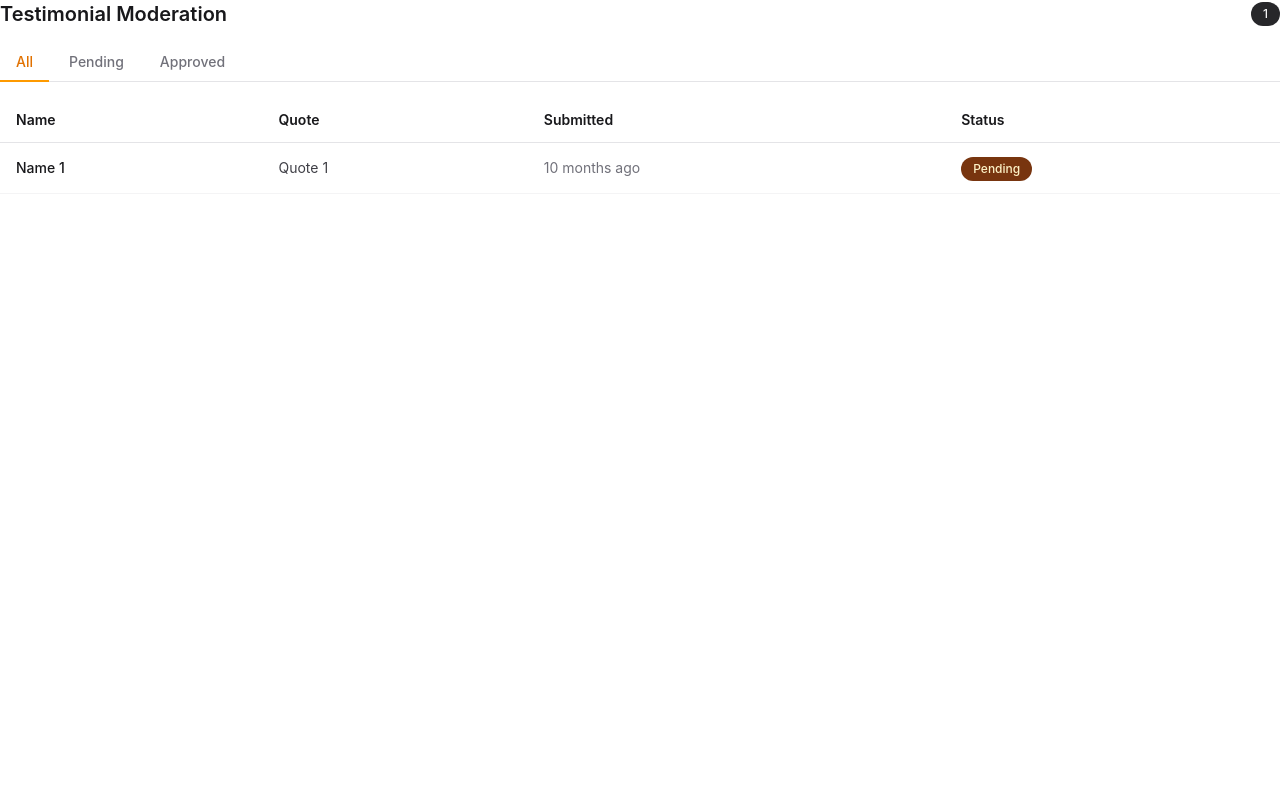
Test: surfaces an action error in the modal
Click the text "Name 1" at (40, 168), box [0,142,262,194]
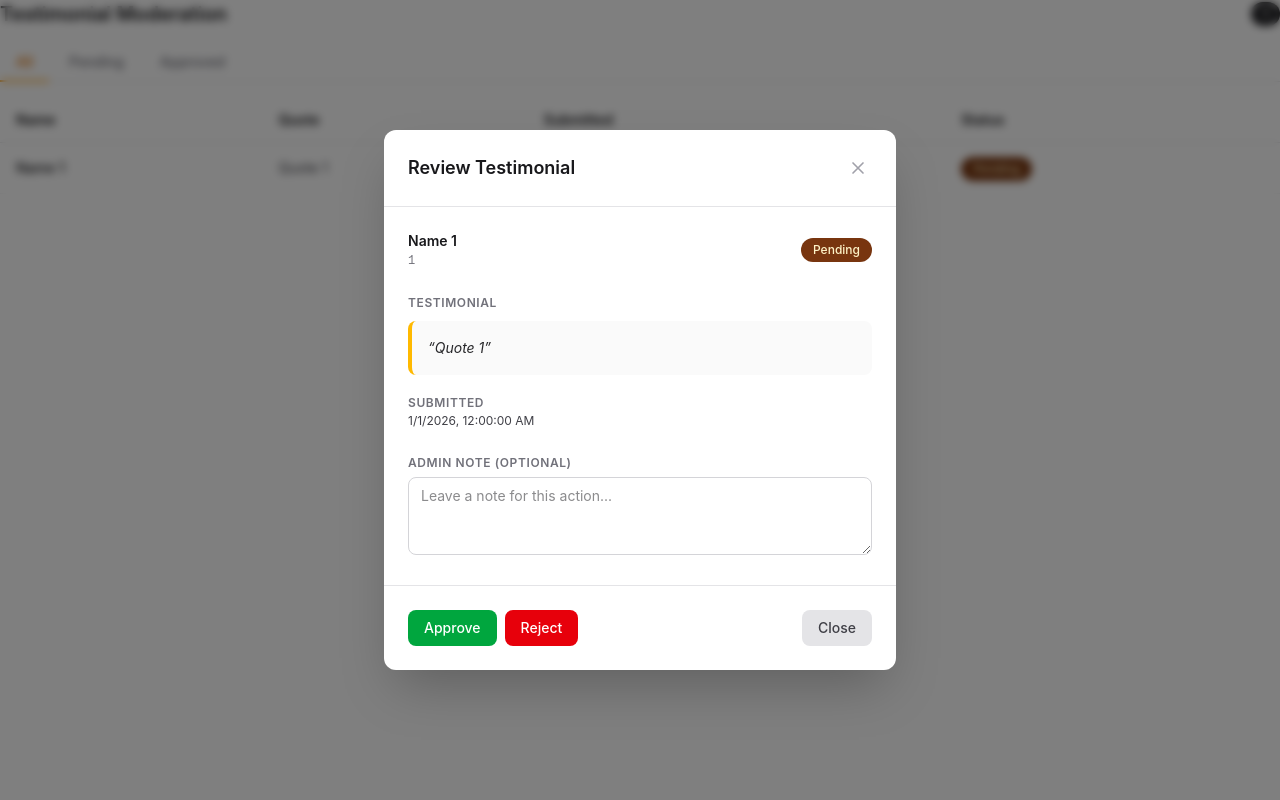
Result: the heading "Review Testimonial" is shown at [408,154,575,182]
Click the button with aria-label "reject testimonial from name 1" at (541, 628), box [505,610,578,646]
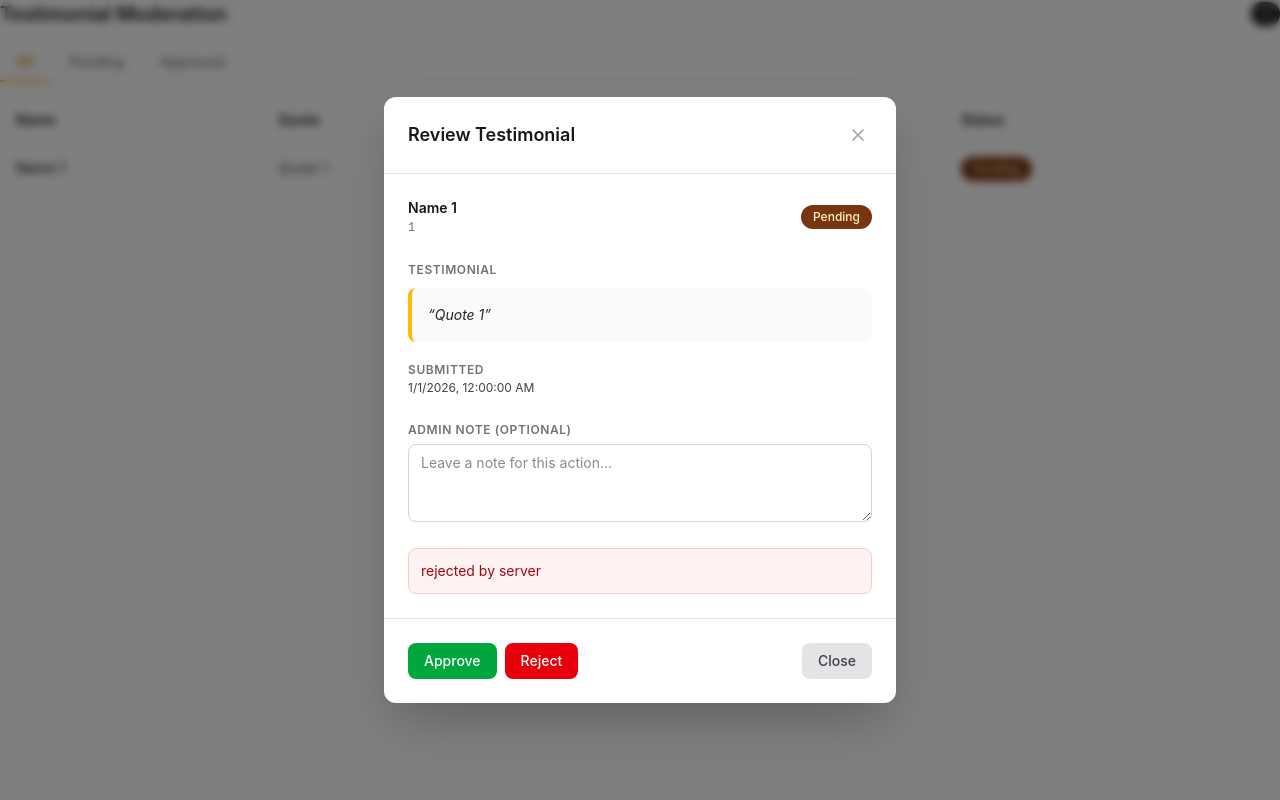
Result: the text "rejected by server" is shown at [421,562,541,579]
